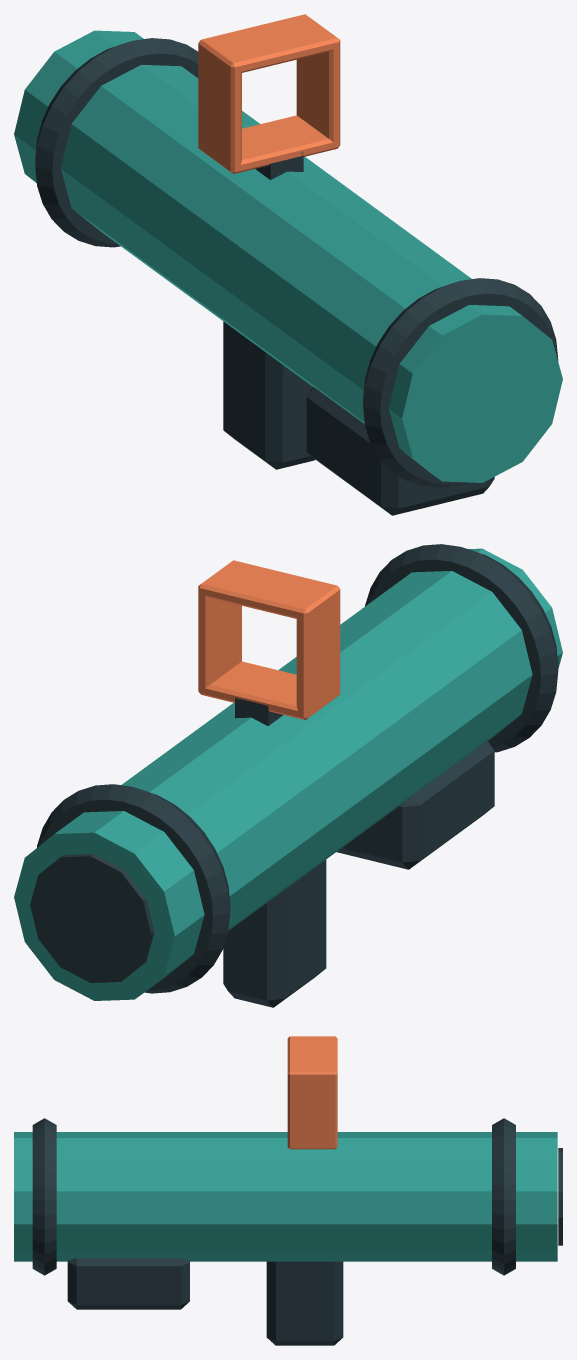
File: launcher.glb
3 views of the same model, one above another, from view 1: azimuth 30°, elevation 25°; view 2: azimuth 150°, elevation 25°; view 3: azimuth 270°, elevation 25° (orthographic). The views are drawn at different scales.
Parts seen in each view (by area): view 1: launcher.Root_Teal, launcher.Root_Dark, launcher.Root_Orange; view 2: launcher.Root_Teal, launcher.Root_Dark, launcher.Root_Orange; view 3: launcher.Root_Teal, launcher.Root_Dark, launcher.Root_Orange.
Boxes of the visible parts, bbox=[...] form: launcher.Root_Teal: bbox=[14, 30, 562, 482]; launcher.Root_Dark: bbox=[35, 38, 558, 515]; launcher.Root_Orange: bbox=[198, 14, 340, 173]; launcher.Root_Teal: bbox=[14, 548, 562, 1000]; launcher.Root_Dark: bbox=[30, 544, 558, 1007]; launcher.Root_Orange: bbox=[198, 560, 340, 719]; launcher.Root_Teal: bbox=[14, 1132, 557, 1261]; launcher.Root_Dark: bbox=[32, 1118, 562, 1345]; launcher.Root_Orange: bbox=[287, 1036, 337, 1149].
Size of the model in its own units: 0.206 by 0.411 by 0.717.
